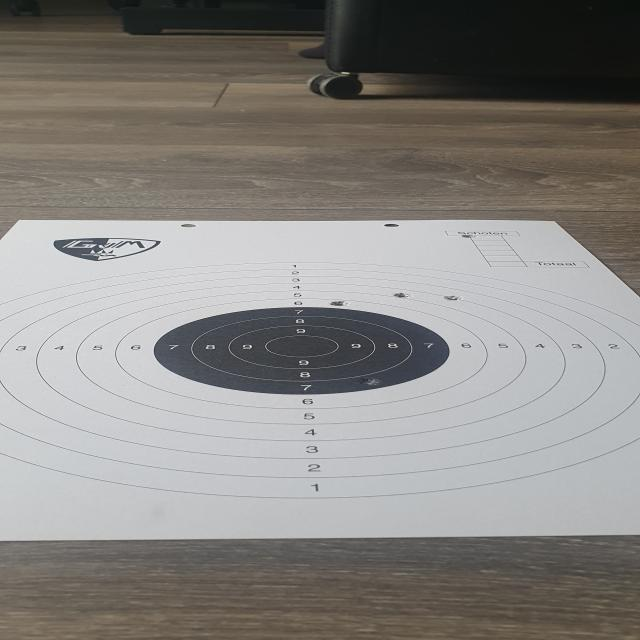0: (460, 234, 478, 238)
4: (393, 292, 415, 298), (442, 296, 461, 302)
6: (327, 300, 351, 307)
7: (356, 377, 382, 386)
Target: (0, 261, 640, 500)
black_contour: (154, 306, 451, 395)
